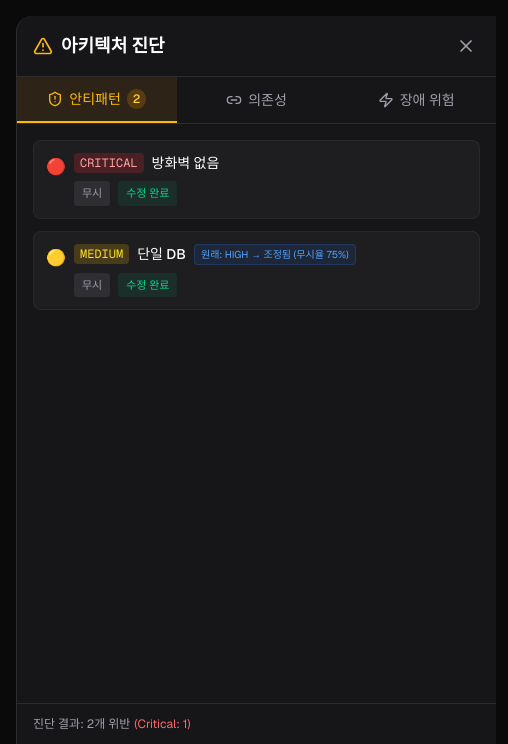
Scenario: HealthCheckPanel - Calibrated Behavior › should remove anti-pattern when fix button is clicked
Click the button with test id "fix-AP-002" at (148, 285), box [118, 272, 177, 297]
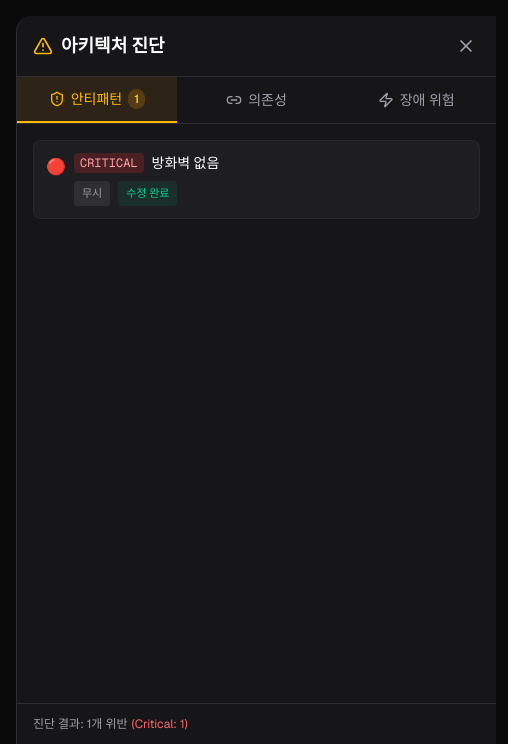
Expected: the text "단일 DB" is gone
